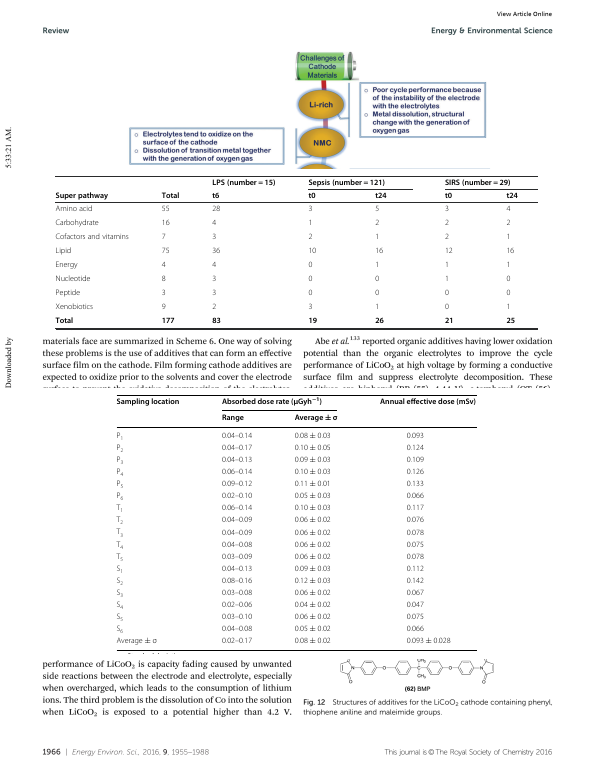borderless: (115, 393, 477, 650), (54, 174, 537, 328)
cell: (221, 396, 323, 407), (379, 397, 477, 407), (55, 232, 130, 242), (307, 178, 386, 187), (116, 397, 180, 407), (444, 178, 511, 187), (211, 178, 276, 187), (55, 191, 109, 201), (55, 218, 100, 228), (294, 413, 338, 423), (406, 637, 452, 646), (55, 302, 94, 312), (115, 637, 158, 646), (294, 431, 332, 441), (294, 443, 332, 453), (294, 552, 332, 562), (294, 564, 332, 574), (55, 204, 93, 214), (55, 274, 91, 284), (294, 456, 332, 465), (294, 468, 332, 477), (294, 480, 332, 489), (294, 492, 332, 501), (294, 504, 332, 513), (294, 516, 332, 525), (294, 528, 332, 537), (294, 540, 332, 549), (294, 577, 332, 586), (294, 589, 332, 598), (294, 601, 332, 610), (294, 613, 332, 622), (294, 625, 332, 634), (294, 637, 332, 646), (221, 431, 253, 441), (221, 443, 253, 453), (221, 552, 253, 562), (221, 564, 253, 574), (221, 456, 253, 465), (221, 468, 253, 477), (221, 480, 253, 489), (221, 492, 253, 501), (221, 504, 253, 513), (221, 516, 253, 525), (221, 528, 253, 537), (221, 540, 253, 549), (221, 577, 253, 586), (221, 589, 253, 598), (221, 601, 253, 610), (221, 613, 253, 622), (221, 625, 253, 634), (221, 637, 253, 646), (55, 288, 81, 298), (221, 413, 245, 423), (55, 260, 78, 270), (406, 431, 425, 441), (406, 443, 425, 453), (406, 552, 425, 562), (406, 564, 425, 574), (161, 191, 180, 201), (55, 316, 74, 326), (406, 456, 425, 465), (406, 468, 425, 477), (406, 480, 425, 489), (406, 492, 425, 501), (406, 504, 425, 513), (406, 516, 425, 525), (406, 528, 425, 537), (406, 540, 425, 549), (406, 577, 425, 586), (406, 589, 425, 598), (406, 601, 425, 610), (406, 613, 425, 622), (406, 625, 425, 634), (55, 246, 72, 256), (374, 191, 388, 201), (505, 191, 519, 201), (161, 316, 175, 326), (211, 316, 222, 326), (307, 316, 318, 326), (374, 316, 385, 326), (505, 316, 516, 326), (211, 204, 221, 214), (211, 246, 221, 256), (307, 246, 317, 256), (374, 246, 384, 256), (444, 246, 454, 256), (505, 246, 515, 256), (444, 316, 454, 326), (115, 504, 124, 515), (115, 516, 124, 527), (115, 528, 124, 539), (115, 540, 124, 551), (115, 552, 124, 563), (115, 564, 124, 575), (115, 613, 124, 624), (115, 625, 124, 636), (115, 577, 124, 587), (115, 589, 124, 599), (115, 601, 124, 611), (211, 191, 220, 201), (307, 191, 316, 201), (444, 191, 453, 201), (161, 204, 170, 214), (161, 218, 170, 228), (161, 246, 170, 256), (116, 431, 124, 442), (116, 443, 124, 454), (116, 492, 124, 503), (116, 456, 124, 466), (116, 468, 124, 478), (116, 480, 124, 490), (307, 204, 313, 214), (374, 204, 380, 214), (444, 204, 450, 214), (505, 204, 511, 214), (211, 218, 217, 228), (307, 218, 313, 228), (374, 218, 380, 228), (444, 218, 450, 228), (505, 218, 511, 228), (161, 232, 167, 242), (211, 232, 217, 242), (307, 232, 313, 242), (374, 232, 380, 242), (444, 232, 450, 242), (505, 232, 511, 242), (161, 260, 167, 270), (211, 260, 217, 270), (307, 260, 313, 270), (374, 260, 380, 270), (444, 260, 450, 270), (505, 260, 511, 270), (161, 274, 167, 284), (211, 274, 217, 284), (307, 274, 313, 284), (374, 274, 380, 284), (444, 274, 450, 284), (505, 274, 511, 284), (161, 288, 167, 298), (211, 288, 217, 298), (307, 288, 313, 298), (374, 288, 380, 298), (444, 288, 450, 298), (505, 288, 511, 298), (161, 302, 167, 312), (211, 302, 217, 312), (307, 302, 313, 312), (374, 302, 380, 312), (444, 302, 450, 312), (505, 302, 511, 312)
